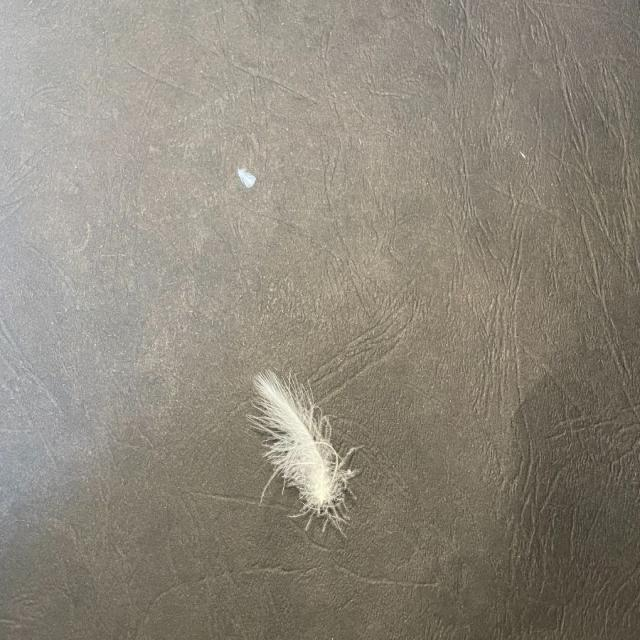feather: (244, 366, 365, 540), (233, 166, 256, 189)
